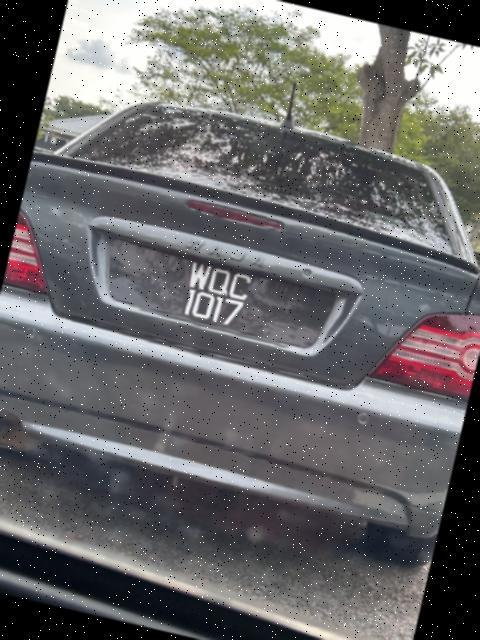License_Plate: (97, 239, 329, 354)
WQC1017: (97, 239, 329, 354)
car: (1, 70, 480, 578)
